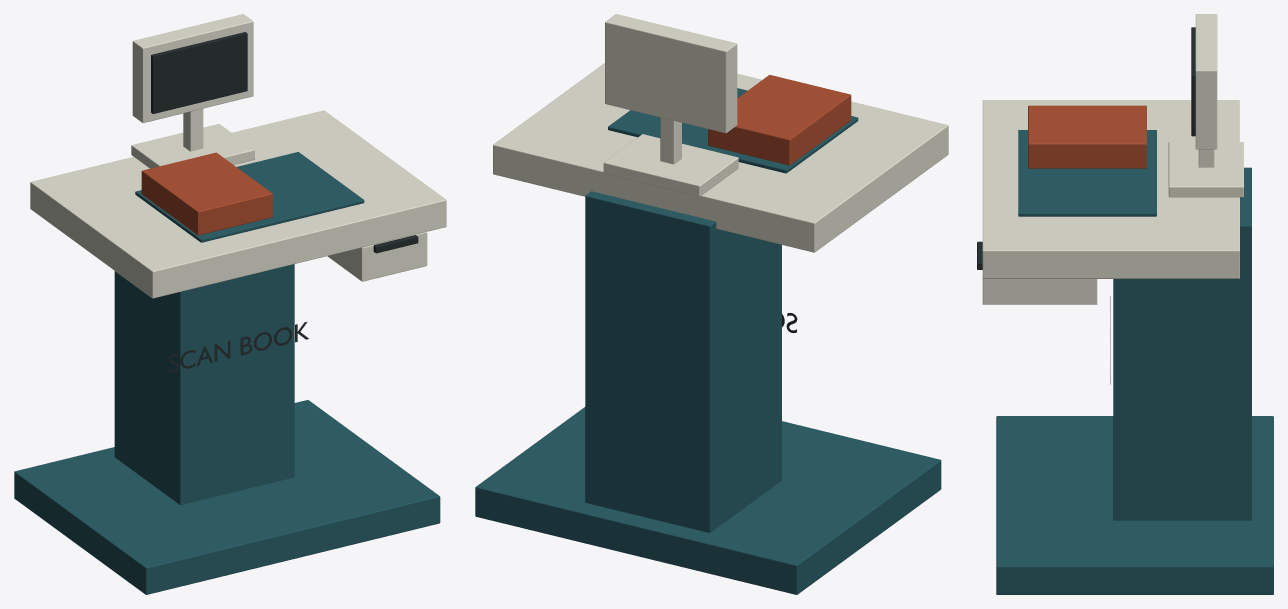
The model's file is public-library-self-checkout.glb.
3 views of the same model, side by side, from view 1: azimuth 30°, elevation 25°; view 2: azimuth 150°, elevation 25°; view 3: azimuth 270°, elevation 25° (orthographic). The views are drawn at different scales.
Parts seen in each view (by area): view 1: Base, Pedestal, Book_Pad, Book, Screen, RFID_Surface, Screen_Housing, Terminal_Foot, Receipt_Printer_Housing, Editable_Label_SCAN_BOOK, Terminal_Stem; view 2: Pedestal, Base, Book_Pad, Screen_Housing, Book, Terminal_Foot, RFID_Surface, Terminal_Stem; view 3: Base, Pedestal, Book_Pad, Book, RFID_Surface, Terminal_Foot, Screen_Housing, Receipt_Printer_Housing, Screen.
Boxes of the visible parts, <box> form: Base: <box>14,400,440,594</box>; Pedestal: <box>114,264,294,504</box>; Book_Pad: <box>30,110,446,298</box>; Book: <box>141,152,272,235</box>; Screen: <box>151,32,247,113</box>; RFID_Surface: <box>135,152,364,242</box>; Screen_Housing: <box>132,14,253,122</box>; Terminal_Foot: <box>131,124,254,168</box>; Receipt_Printer_Housing: <box>327,232,427,281</box>; Editable_Label_SCAN_BOOK: <box>169,321,308,372</box>; Terminal_Stem: <box>183,108,203,151</box>; Pedestal: <box>585,191,781,532</box>; Base: <box>475,407,941,594</box>; Book_Pad: <box>493,63,948,252</box>; Screen_Housing: <box>605,14,737,133</box>; Book: <box>708,75,851,165</box>; Terminal_Foot: <box>603,134,738,196</box>; RFID_Surface: <box>608,88,858,173</box>; Terminal_Stem: <box>660,117,681,164</box>; Base: <box>996,416,1273,594</box>; Pedestal: <box>1113,167,1251,520</box>; Book_Pad: <box>982,100,1239,278</box>; Book: <box>1028,105,1146,168</box>; RFID_Surface: <box>1018,130,1156,216</box>; Terminal_Foot: <box>1168,142,1243,197</box>; Screen_Housing: <box>1195,14,1217,149</box>; Receipt_Printer_Housing: <box>982,279,1097,304</box>; Screen: <box>1191,27,1195,136</box>.
Size of the model in its own units: 0.9 by 1.33 by 0.7485.
